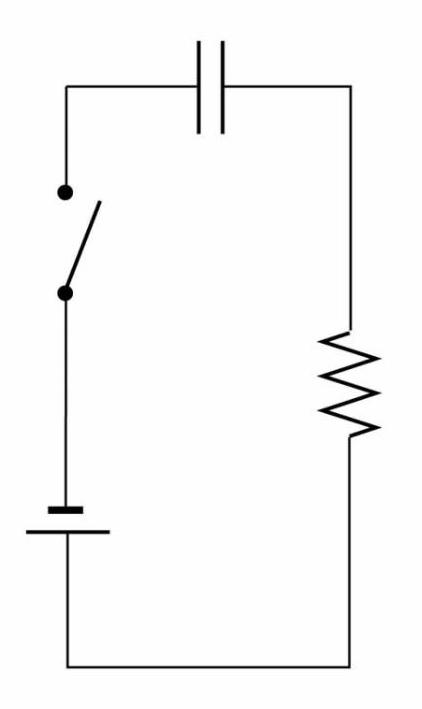Capacitor: (141, 19, 260, 167)
